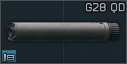HK G28 B&T QD 7.62x51 sound suppressor: (0, 0, 127, 64)
